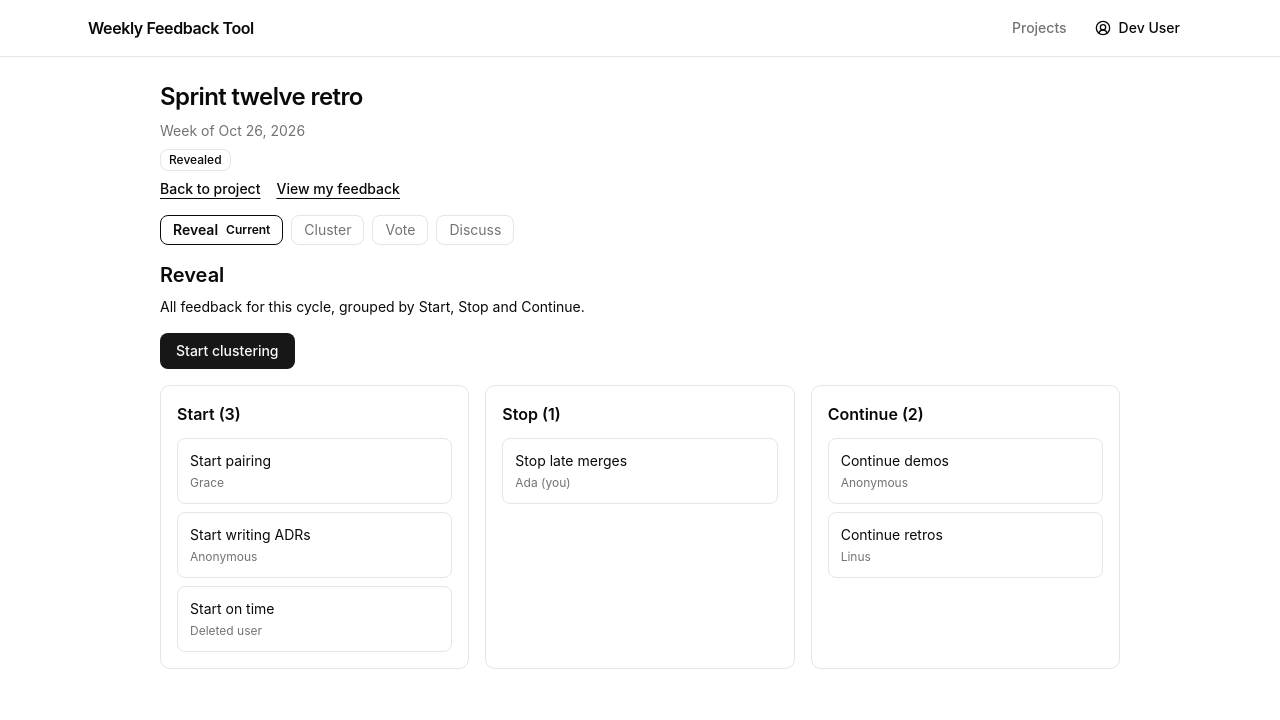
it: advancing the stage › does not move focus when its own advance fails, even if another tab moved the stage
What coordinates should you click on to do the following:
click the button "Start clustering"
I would click on:
 (227, 351)
Its box is [160,333,294,369].
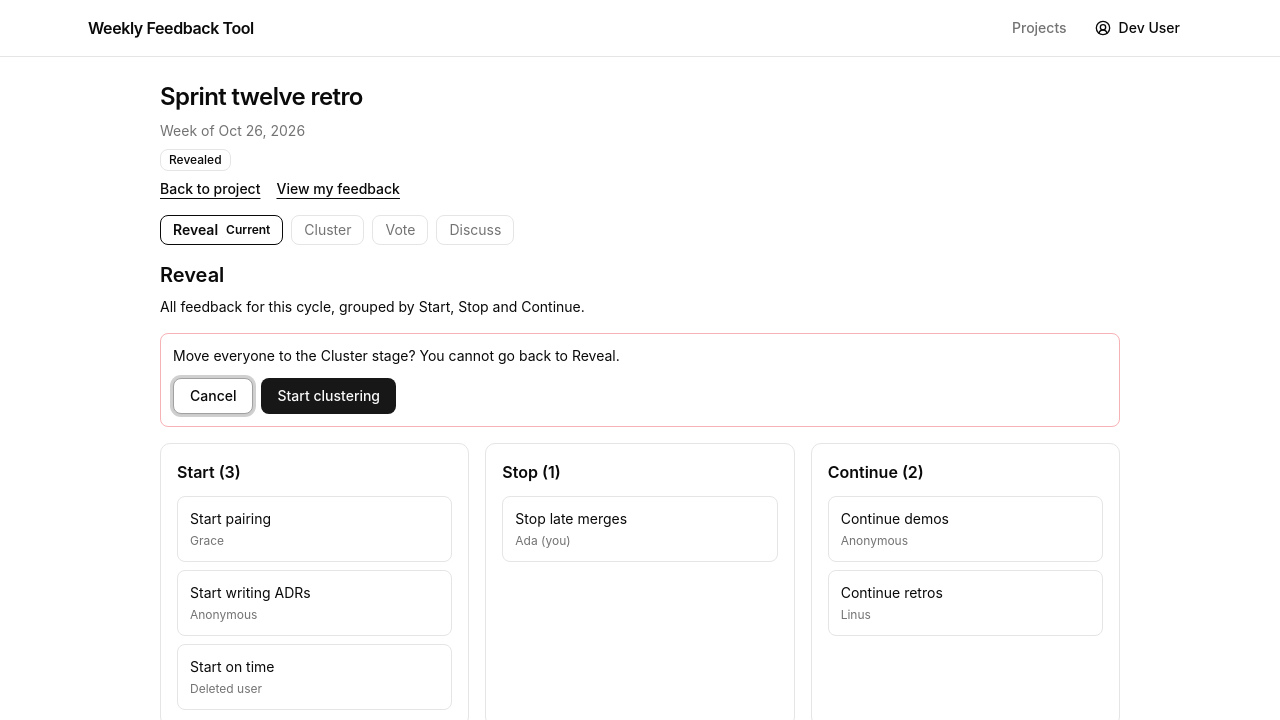
What coordinates should you click on to do the following:
click the button "Start clustering"
I would click on:
 (329, 396)
Its box is [262,378,396,414].
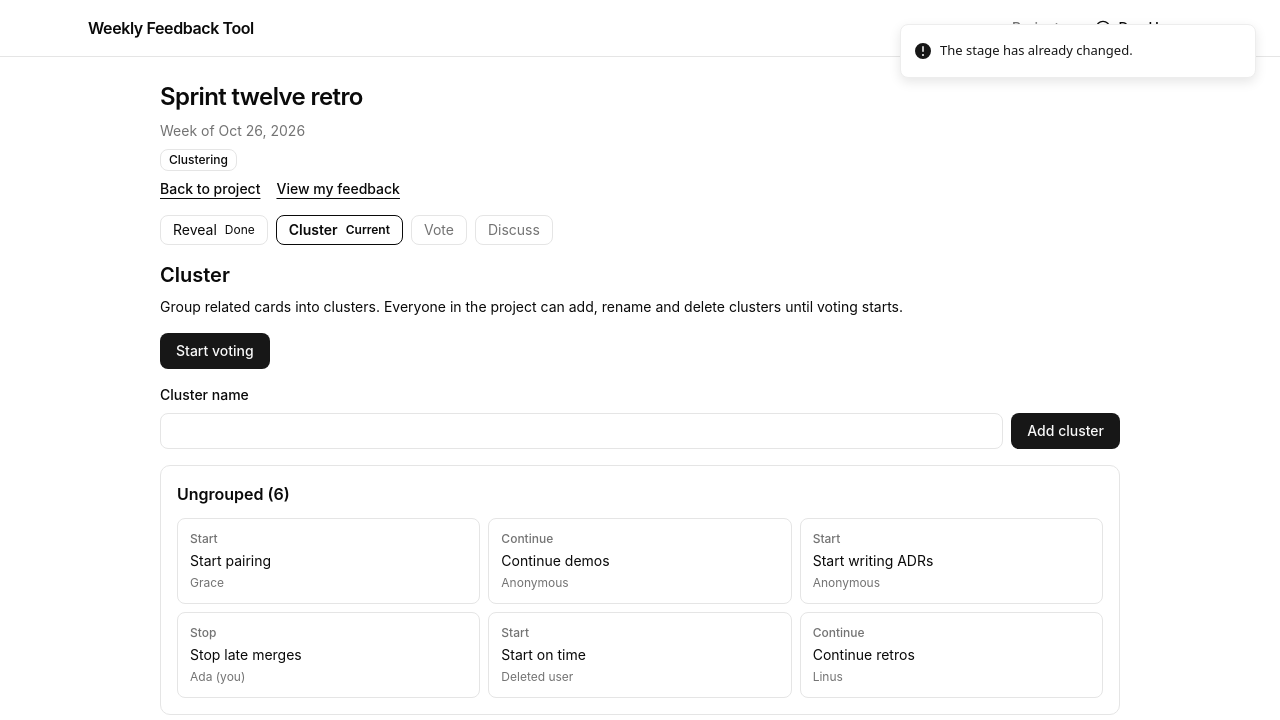
Now the text "The stage has already changed." is shown, box [940,41,1133,60]
